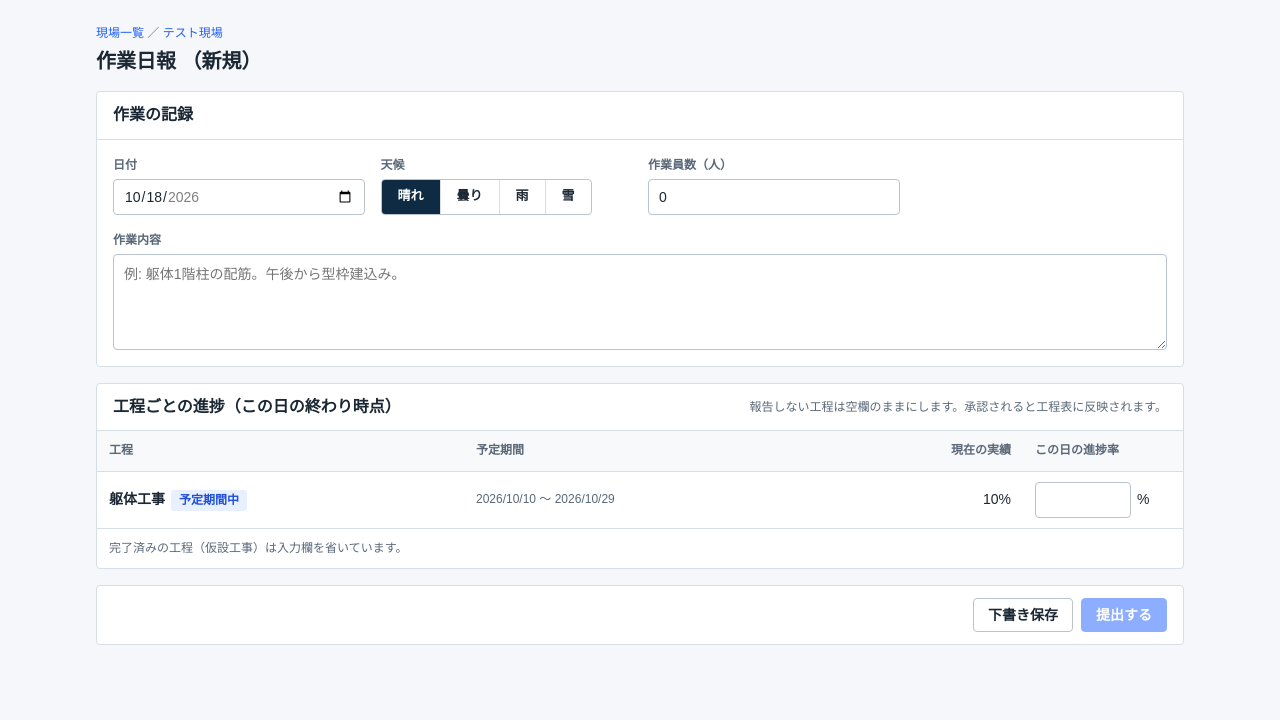
ReportEditView › 作業員数が空なら送信せずに入力欄でエラーを出す
The image size is (1280, 720).
Clear the number field with id "worker-count": (774,197) [648,179,900,215]
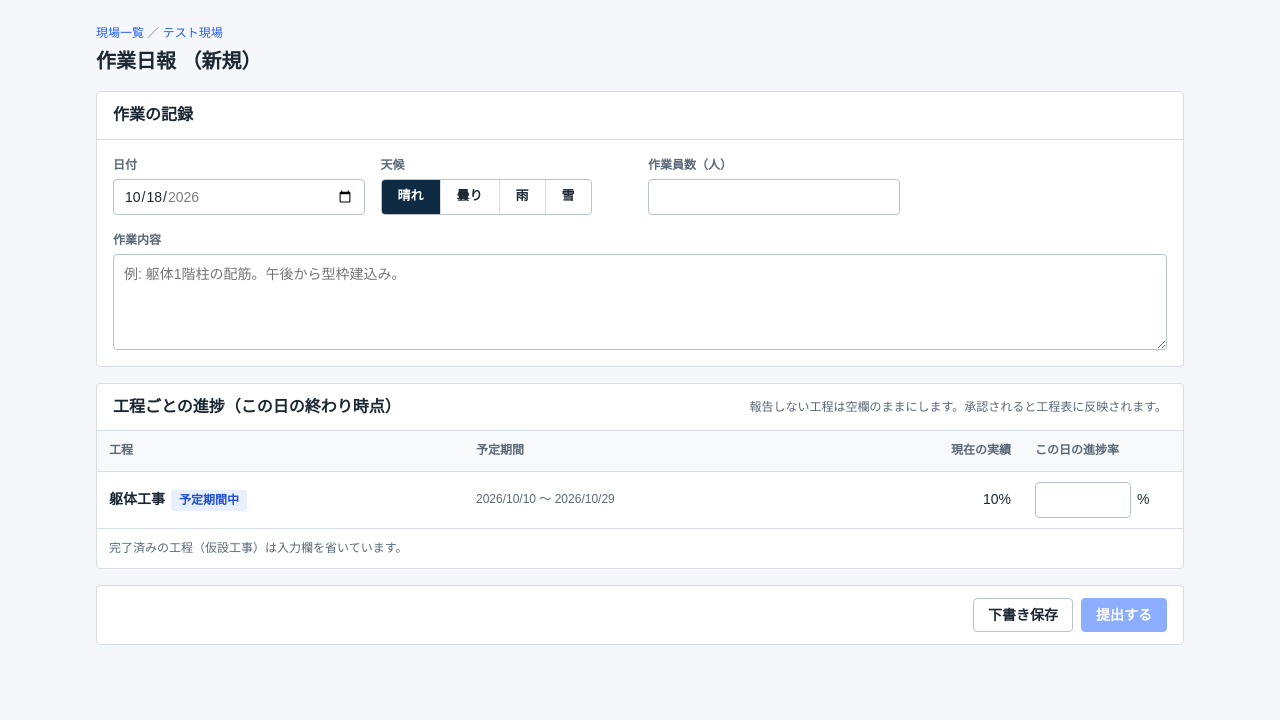
Click the button "下書き保存": (1023,615) [973,598,1073,632]
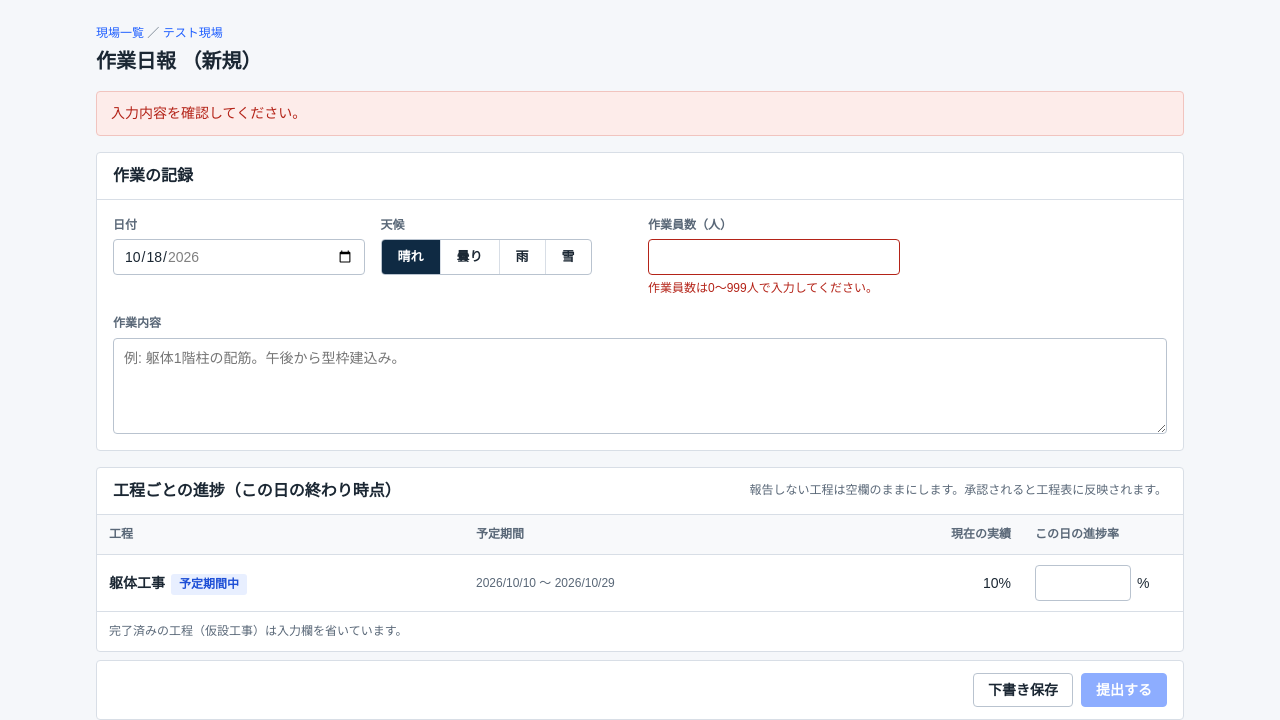
Now the text "作業員数は0〜999人で入力してください。" is shown, box [648,279,900,298]
